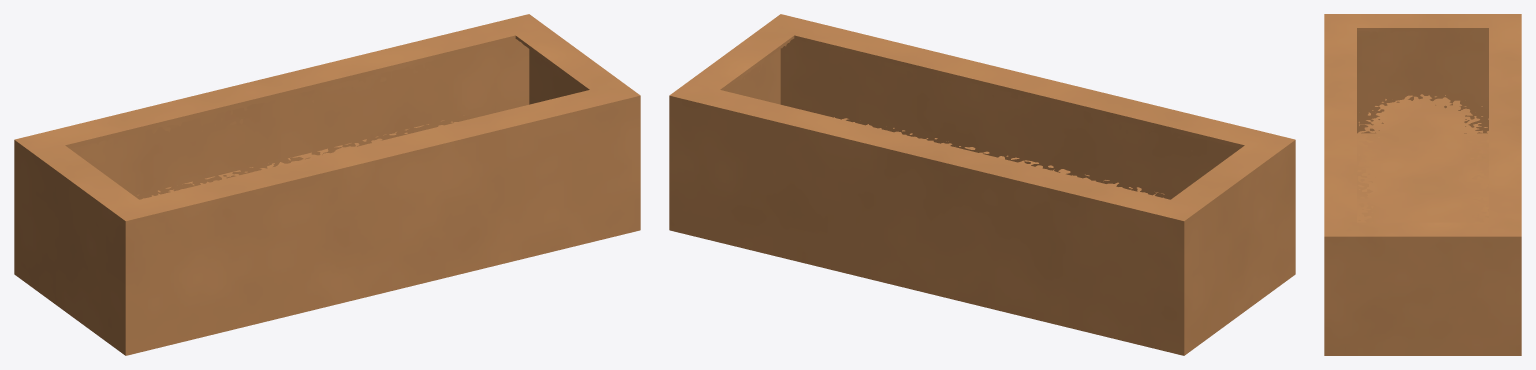
3 views of the same model, side by side, from view 1: azimuth 30°, elevation 25°; view 2: azimuth 150°, elevation 25°; view 3: azimuth 270°, elevation 25° (orthographic). The views are drawn at different scales.
Visible parts, largest first — view 1: ss18-carved-sandstone-trough; view 2: ss18-carved-sandstone-trough; view 3: ss18-carved-sandstone-trough.
Boxes of the visible parts, <box> form: ss18-carved-sandstone-trough: <box>14,14,640,355</box>; ss18-carved-sandstone-trough: <box>669,14,1295,355</box>; ss18-carved-sandstone-trough: <box>1324,14,1521,355</box>.
Size of the model in its own units: 200 by 50 by 75.
